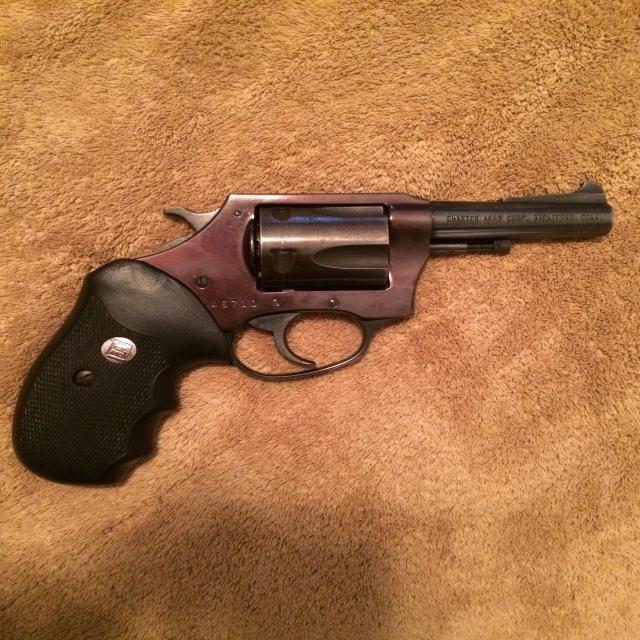Gun: (21, 149, 630, 532)
